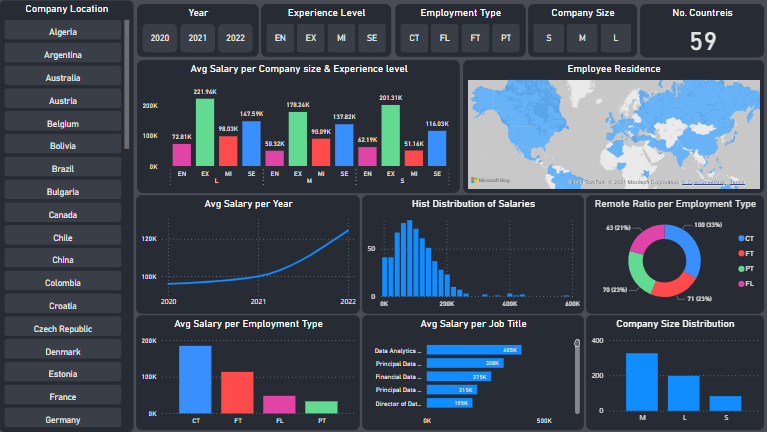

Layout of this report page (visuals, bound fields, positions):
{"tool":"powerbi","page":{"name":"Page 1","canvas":[1280,720],"ordinal":0},"visuals":[{"type":"advancedSlicerVisual","title":"Company Location","fields":{"Values":["processed_ds_salaries.employee_residence"]},"box":[0,0,224.6,721.4],"z":0},{"type":"advancedSlicerVisual","title":"Year","fields":{"Values":["processed_ds_salaries.work_year"]},"box":[229.8,6.7,202.5,88.3],"z":1000},{"type":"advancedSlicerVisual","title":"Experience Level","fields":{"Values":["processed_ds_salaries.experience_level"]},"box":[437.4,6.7,216.7,88.3],"z":2000},{"type":"advancedSlicerVisual","title":"Employment Type","fields":{"Values":["processed_ds_salaries.employment_type"]},"box":[659.2,6.7,217.5,88.3],"z":3000},{"type":"advancedSlicerVisual","title":"Company Size","fields":{"Values":["processed_ds_salaries.company_size"]},"box":[881.9,6.7,181.7,88.3],"z":4000},{"type":"barChart","title":"Avg Salary per Job Title","fields":{"Category":["processed_ds_salaries.job_title"],"Y":["Avg(processed_ds_salaries.salary_in_usd)"]},"box":[605.2,525.2,370,192],"z":5000},{"type":"lineChart","title":"Avg Salary per Year","fields":{"Y":["Avg(processed_ds_salaries.salary_in_usd)"],"Category":["processed_ds_salaries.work_year"]},"box":[228.5,325,373.3,198.3],"z":6000},{"type":"clusteredColumnChart","title":"Avg Salary per Company size & Experience level","fields":{"Y":["Avg(processed_ds_salaries.salary_in_usd)"],"Category":["processed_ds_salaries.company_size","processed_ds_salaries.experience_level"]},"box":[229.8,100,538.3,221.7],"z":7000},{"type":"filledMap","title":"Employee Residence","fields":{"Category":["processed_ds_salaries.employee_residence"]},"box":[773.3,100,501.7,221.7],"z":8000},{"type":"card","title":"No. Countreis","fields":{"Values":["Count(countries.company_location)"]},"box":[1068.7,6.7,206.7,88.7],"z":9000},{"type":"donutChart","title":"Remote Ratio per Employment Type","fields":{"Y":["Avg(processed_ds_salaries.remote_ratio)"],"Category":["processed_ds_salaries.employment_type"]},"box":[978.3,325,296.7,198.3],"z":10000},{"type":"clusteredColumnChart","title":"Avg Salary per Employment Type","fields":{"Y":["Avg(processed_ds_salaries.salary_in_usd)"],"Category":["processed_ds_salaries.employment_type"]},"box":[228.4,525.2,373.2,192],"z":11000},{"type":"lineClusteredColumnComboChart","title":"Hist Distribution of Salaries","fields":{"Y":["CountNonNull(processed_ds_salaries.salary_in_usd)"],"Category":["processed_ds_salaries.salary_in_usd (bins)"]},"box":[605,325,370,198],"z":12000},{"type":"columnChart","title":"Company Size Distribution","fields":{"Category":["processed_ds_salaries.company_size"],"Y":["CountNonNull(processed_ds_salaries.company_size)"]},"box":[978.3,525,296.7,191.7],"z":13000}]}

Visuals, with their boxes in screenshot pixels (x1, y1, x2, y2), scaled from the page's 1280x720 canvas onto the 767x432 screenshot:
"Company Location" advancedSlicerVisual: select_region(0, 0, 135, 431)
"Year" advancedSlicerVisual: select_region(138, 4, 259, 57)
"Experience Level" advancedSlicerVisual: select_region(262, 4, 392, 57)
"Employment Type" advancedSlicerVisual: select_region(395, 4, 525, 57)
"Company Size" advancedSlicerVisual: select_region(528, 4, 637, 57)
"Avg Salary per Job Title" barChart: select_region(363, 315, 584, 430)
"Avg Salary per Year" lineChart: select_region(137, 195, 361, 314)
"Avg Salary per Company size & Experience level" clusteredColumnChart: select_region(138, 60, 460, 193)
"Employee Residence" filledMap: select_region(463, 60, 764, 193)
"No. Countreis" card: select_region(640, 4, 764, 57)
"Remote Ratio per Employment Type" donutChart: select_region(586, 195, 764, 314)
"Avg Salary per Employment Type" clusteredColumnChart: select_region(137, 315, 360, 430)
"Hist Distribution of Salaries" lineClusteredColumnComboChart: select_region(363, 195, 584, 314)
"Company Size Distribution" columnChart: select_region(586, 315, 764, 430)
